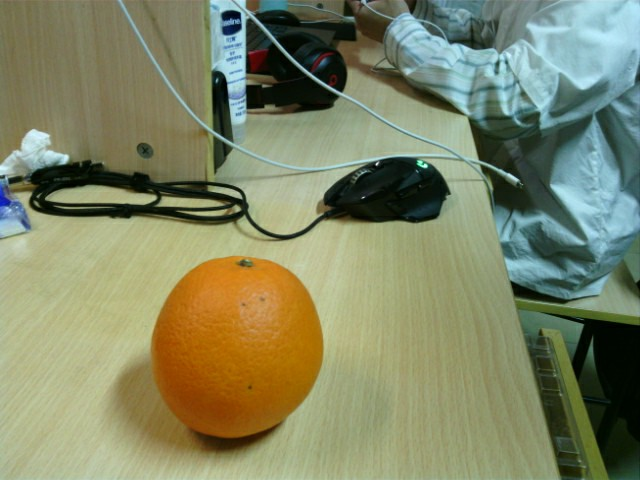normal_orange: (151, 257, 322, 435)
